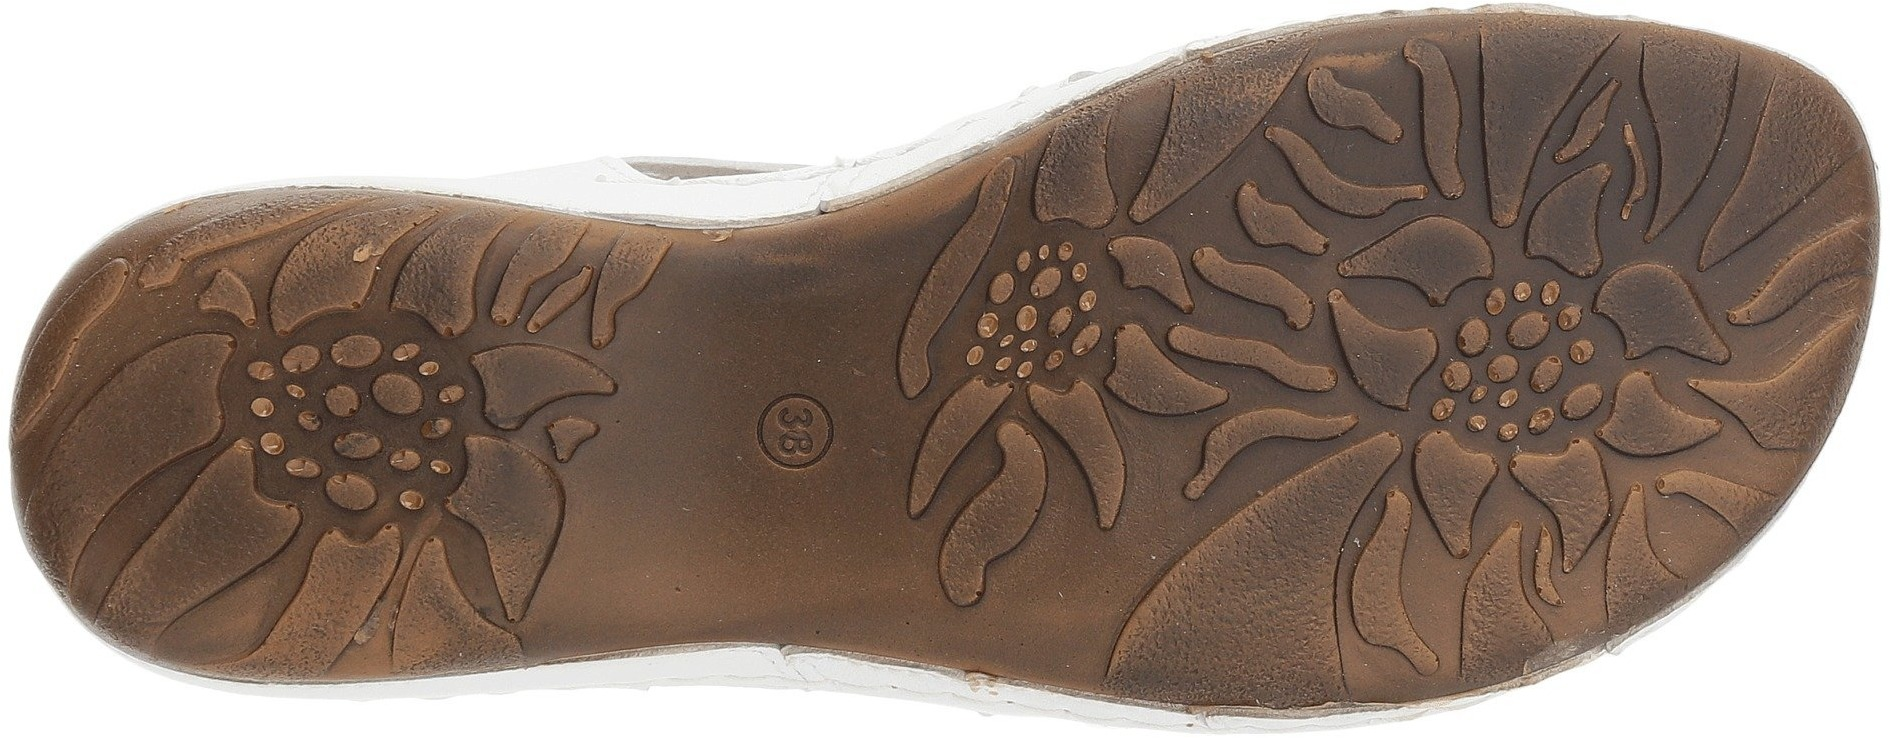circle: (239, 326, 480, 520), (1405, 426, 1626, 621), (956, 234, 1116, 377), (742, 377, 851, 491), (750, 389, 841, 487)
line: (1628, 29, 1880, 275)
text: (742, 377, 851, 491), (762, 370, 824, 480)
triangle: (1634, 30, 1873, 344), (1628, 29, 1880, 275), (1405, 426, 1626, 621), (1119, 39, 1323, 219)
